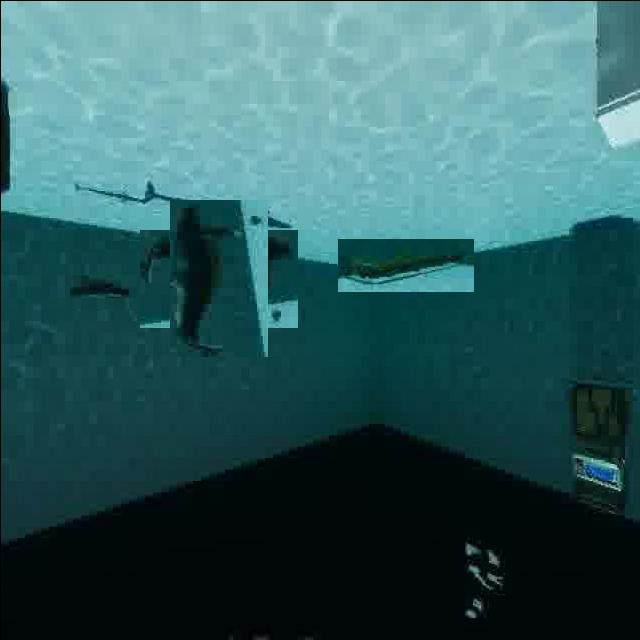Control Panel: (564, 367, 629, 527)
Pipe: (337, 238, 473, 291)
Whale: (154, 214, 282, 342), (69, 249, 139, 310)
